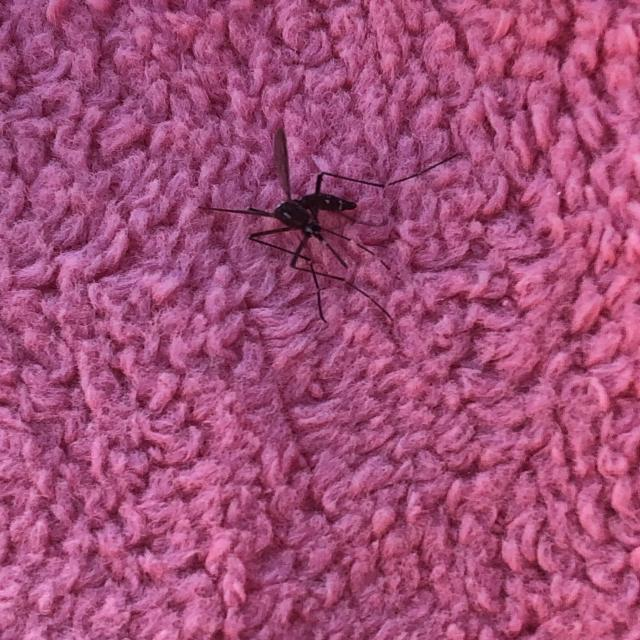albopictus: (187, 122, 456, 328)
